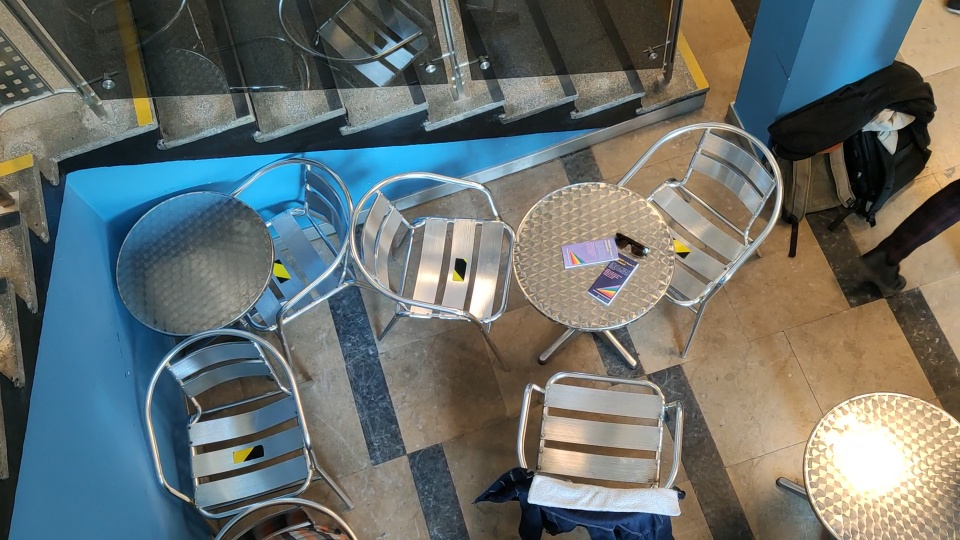chair: (612, 116, 783, 361), (130, 329, 341, 506), (224, 157, 384, 369), (349, 173, 514, 365), (489, 361, 682, 523)
table: (108, 189, 315, 374), (512, 175, 676, 370), (769, 383, 958, 540)
